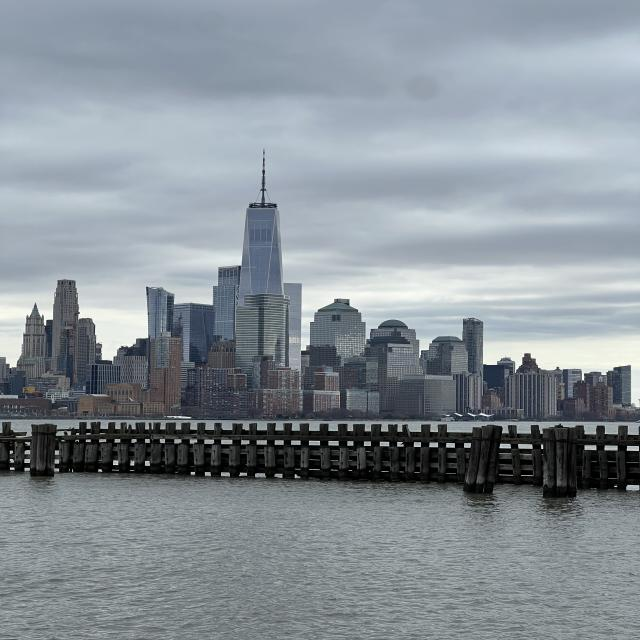WTC: (238, 148, 286, 297)
